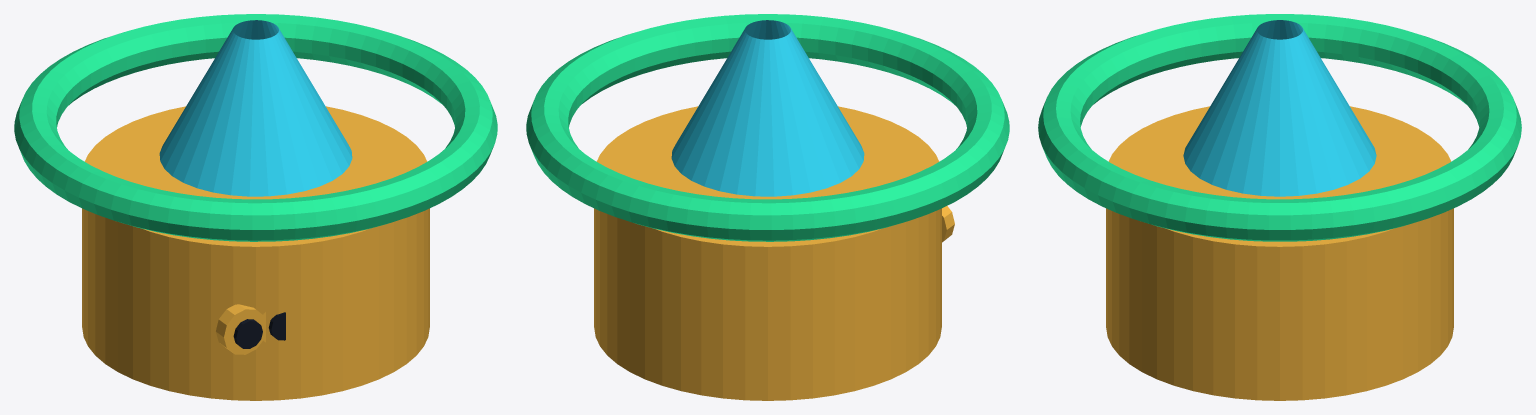
The model's file is 76_L85_DockingMissionCertificationBeacon.fbx.
3 renders of one model, left to right at view 1: azimuth 30°, elevation 25°; view 2: azimuth 150°, elevation 25°; view 3: azimuth 270°, elevation 25°, orthographic.
Visible parts, largest first — view 1: L85_DockingMissionCertificationBeacon_Part_0000, L85_DockingMissionCertificationBeacon_Part_0001, L85_DockingMissionCertificationBeacon_Part_0002, L85_DockingMissionCertificationBeacon_Part_0003, L85_DockingMissionCertificationBeacon_Part_0004; view 2: L85_DockingMissionCertificationBeacon_Part_0000, L85_DockingMissionCertificationBeacon_Part_0001, L85_DockingMissionCertificationBeacon_Part_0002; view 3: L85_DockingMissionCertificationBeacon_Part_0000, L85_DockingMissionCertificationBeacon_Part_0001, L85_DockingMissionCertificationBeacon_Part_0002.
Part boxes in pixels (left/top/right/bottom): L85_DockingMissionCertificationBeacon_Part_0000: left=82, top=106, right=429, bottom=400; L85_DockingMissionCertificationBeacon_Part_0001: left=14, top=14, right=497, bottom=241; L85_DockingMissionCertificationBeacon_Part_0002: left=159, top=20, right=352, bottom=196; L85_DockingMissionCertificationBeacon_Part_0003: left=216, top=304, right=265, bottom=354; L85_DockingMissionCertificationBeacon_Part_0004: left=233, top=319, right=262, bottom=348; L85_DockingMissionCertificationBeacon_Part_0000: left=594, top=106, right=941, bottom=400; L85_DockingMissionCertificationBeacon_Part_0001: left=526, top=14, right=1009, bottom=241; L85_DockingMissionCertificationBeacon_Part_0002: left=671, top=20, right=864, bottom=196; L85_DockingMissionCertificationBeacon_Part_0000: left=1106, top=106, right=1453, bottom=400; L85_DockingMissionCertificationBeacon_Part_0001: left=1038, top=14, right=1521, bottom=241; L85_DockingMissionCertificationBeacon_Part_0002: left=1183, top=20, right=1376, bottom=196.
Bounding box in the file's own units: 125 × 85 × 125.
